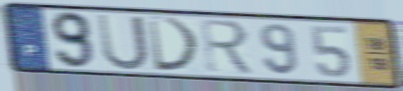5: (308, 24, 352, 79)
9: (48, 9, 97, 72), (258, 22, 299, 77)
D: (145, 14, 203, 73)
R: (198, 17, 258, 78)
U: (95, 12, 151, 73)
